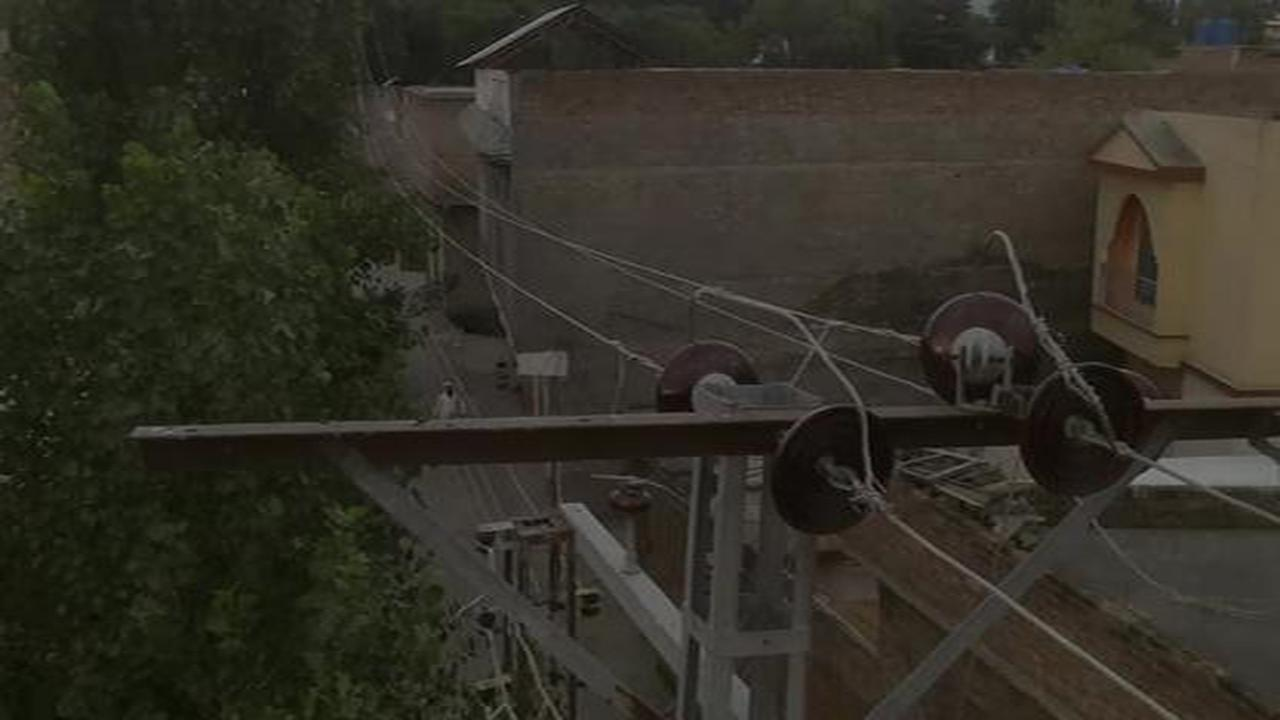insulator_disc: (1012, 348, 1146, 495), (771, 400, 895, 537), (919, 288, 1031, 409), (652, 339, 751, 404)
